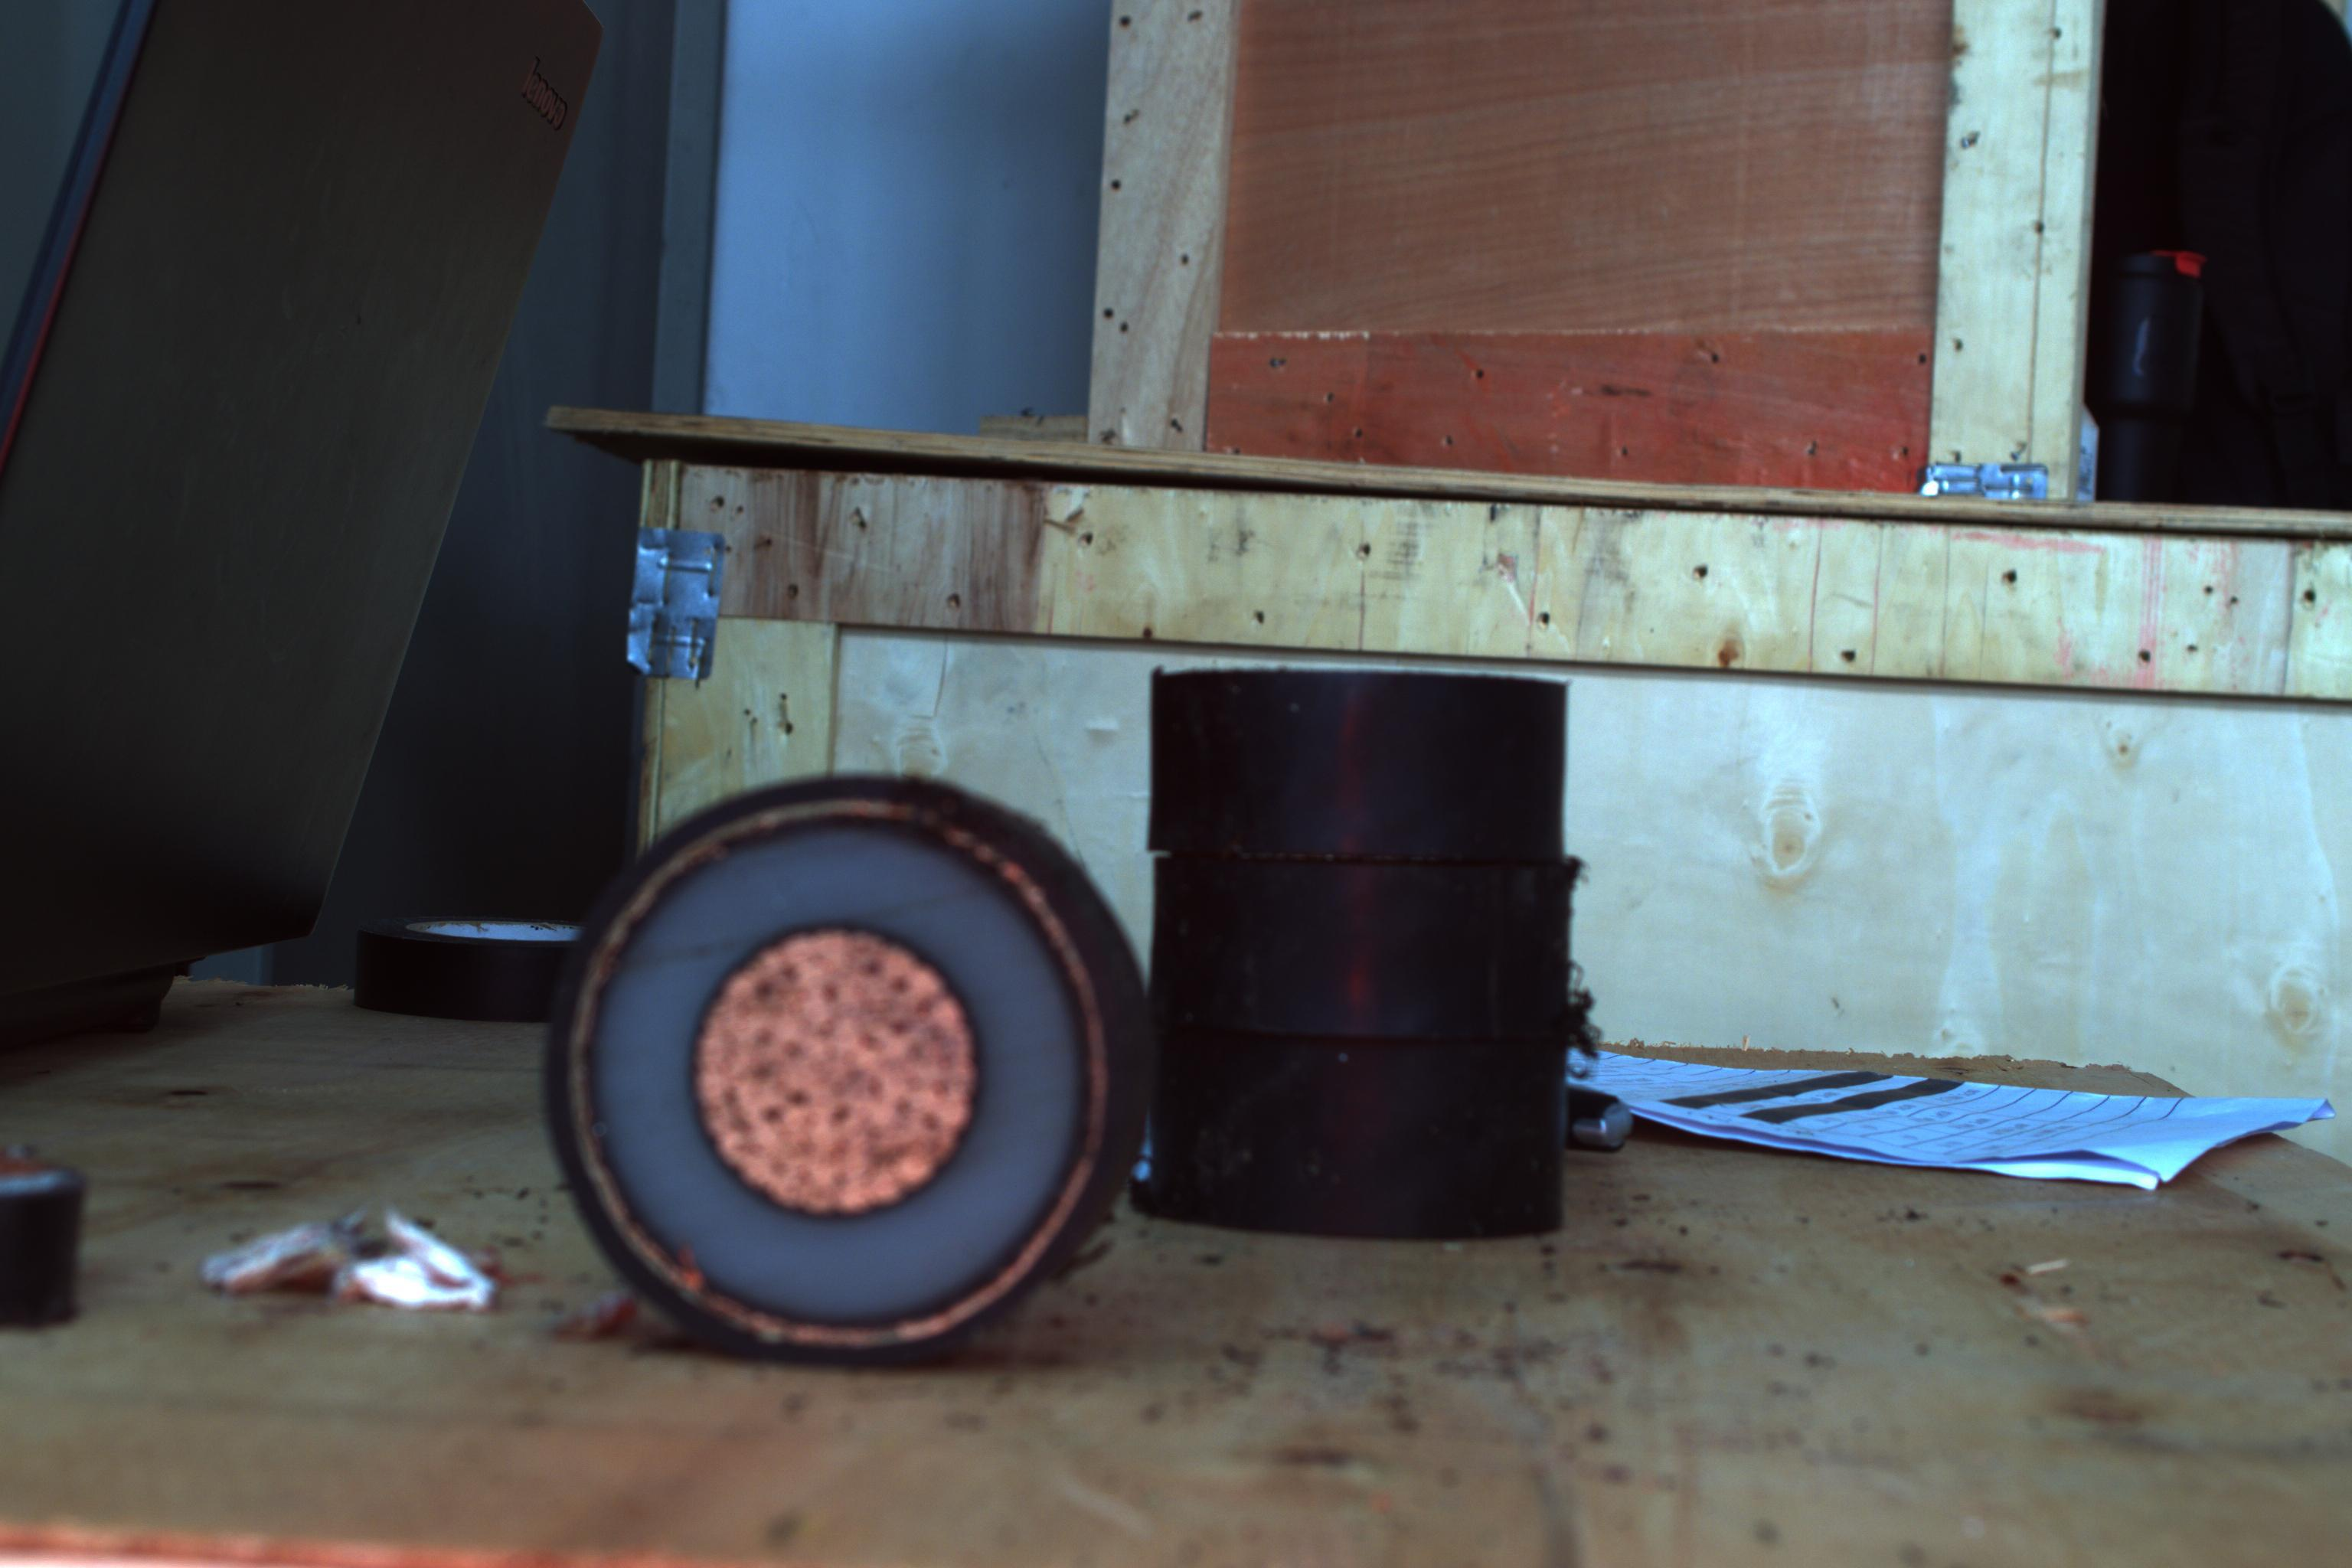YJV_26_35kV_1x630: (544, 786, 1118, 1340)
